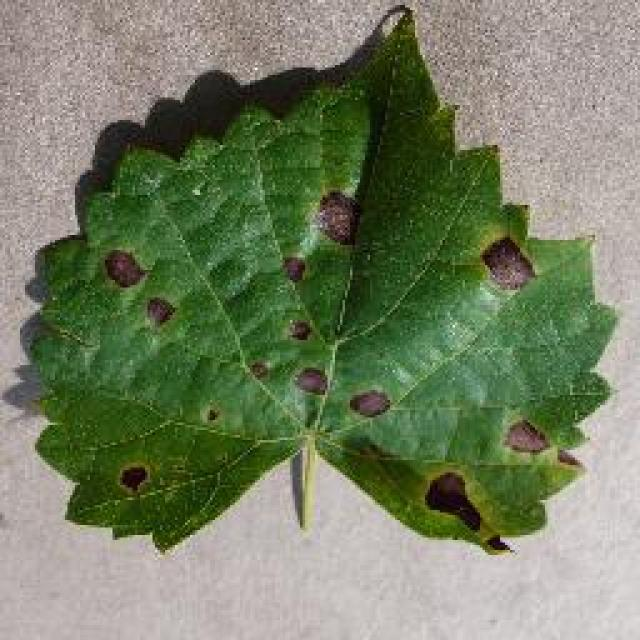Grape___Black_rot: (27, 7, 626, 562)
